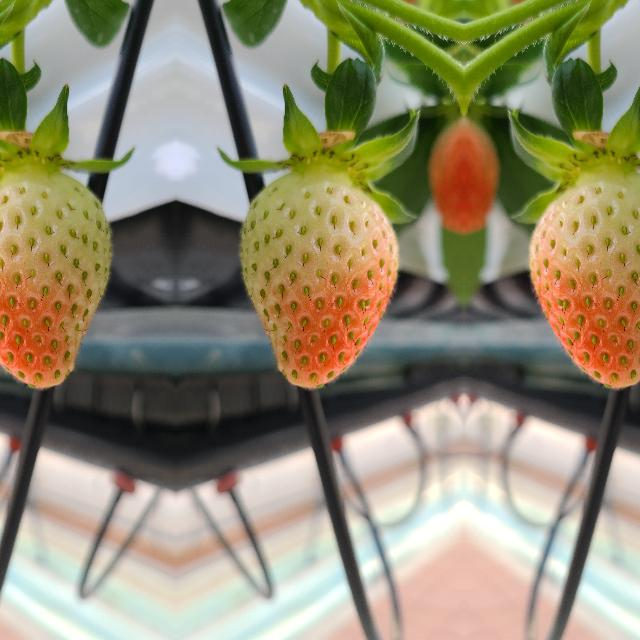Health_50: (236, 162, 400, 392), (526, 162, 640, 391), (0, 162, 113, 391)
